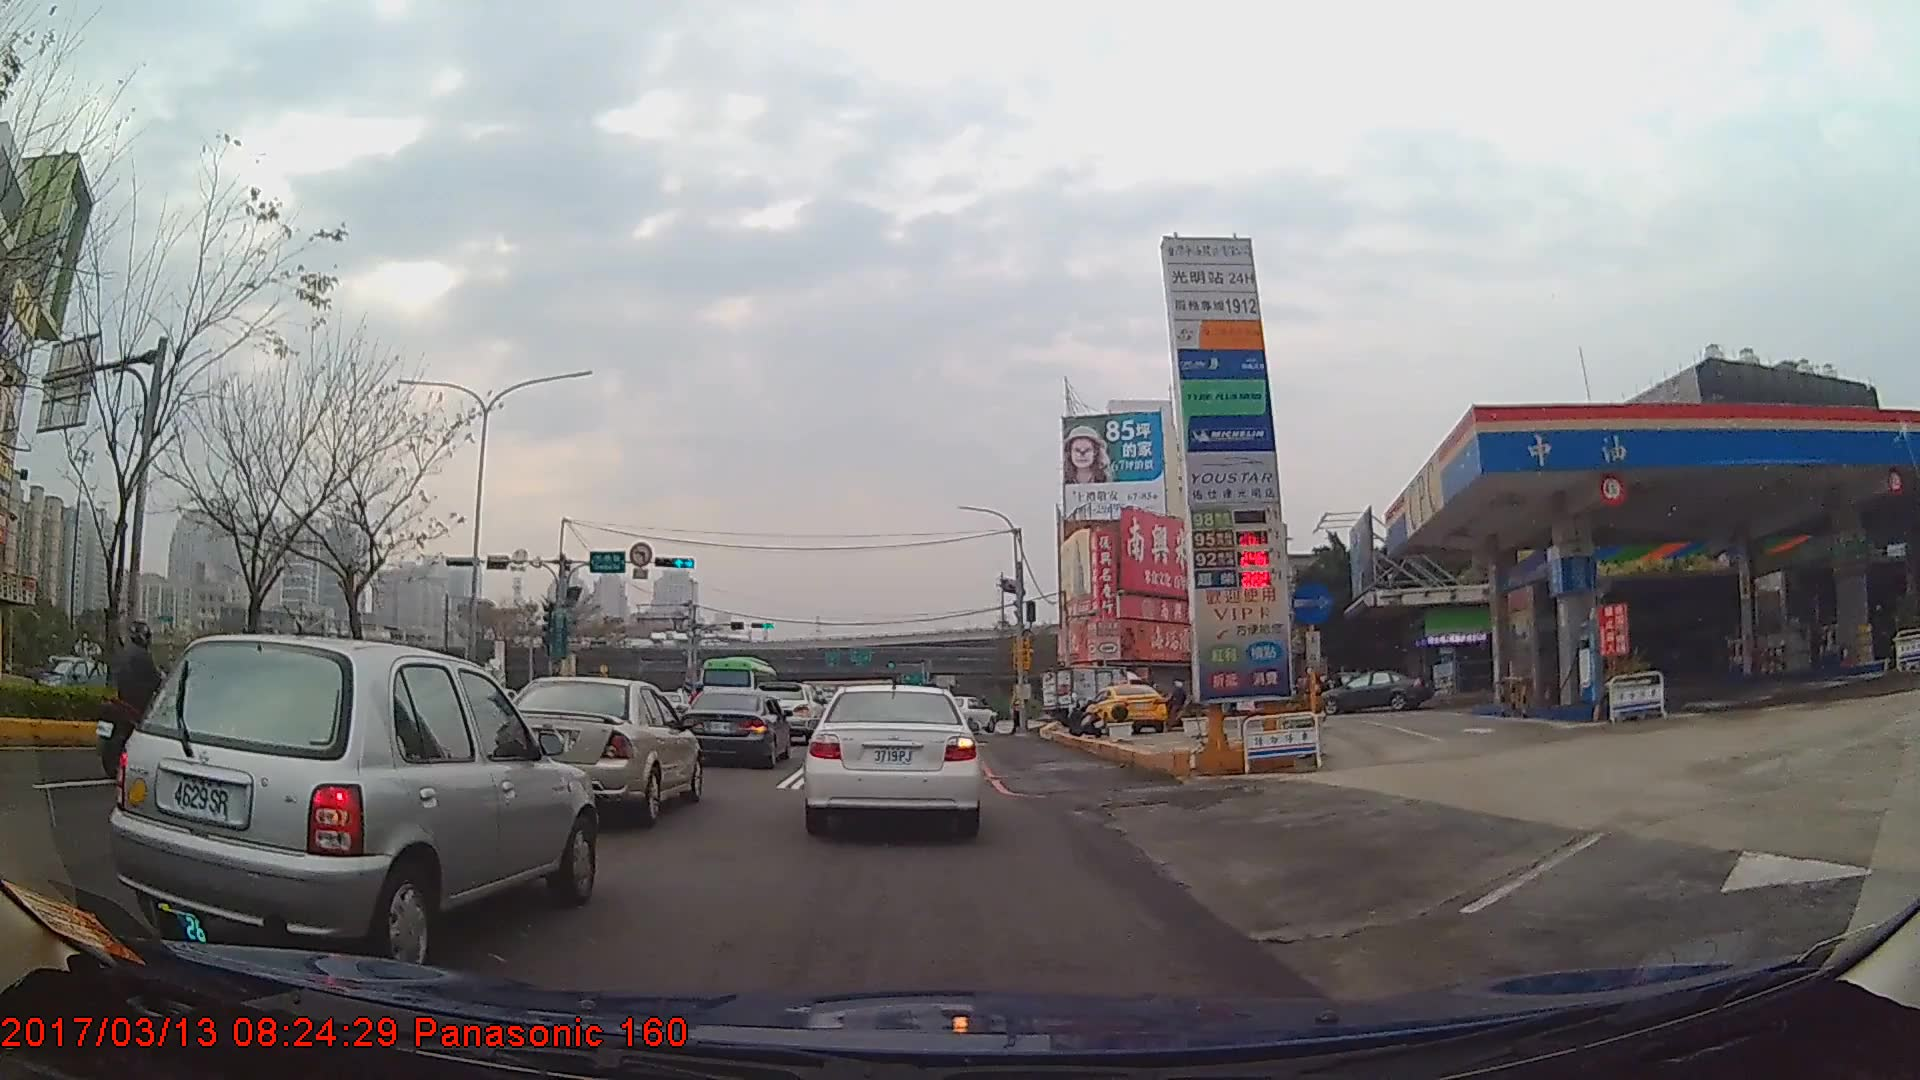rider: (98, 621, 181, 776), (1294, 666, 1327, 726), (1165, 679, 1199, 732), (1263, 673, 1283, 722)
vehicle: (105, 633, 598, 956), (490, 673, 704, 825), (807, 682, 979, 835), (674, 685, 792, 768), (1038, 664, 1145, 726), (695, 654, 777, 717), (1317, 668, 1431, 713), (752, 678, 827, 740), (1087, 680, 1168, 731), (30, 653, 103, 704), (936, 692, 997, 733)
